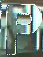Parking: (3, 1, 40, 56)
